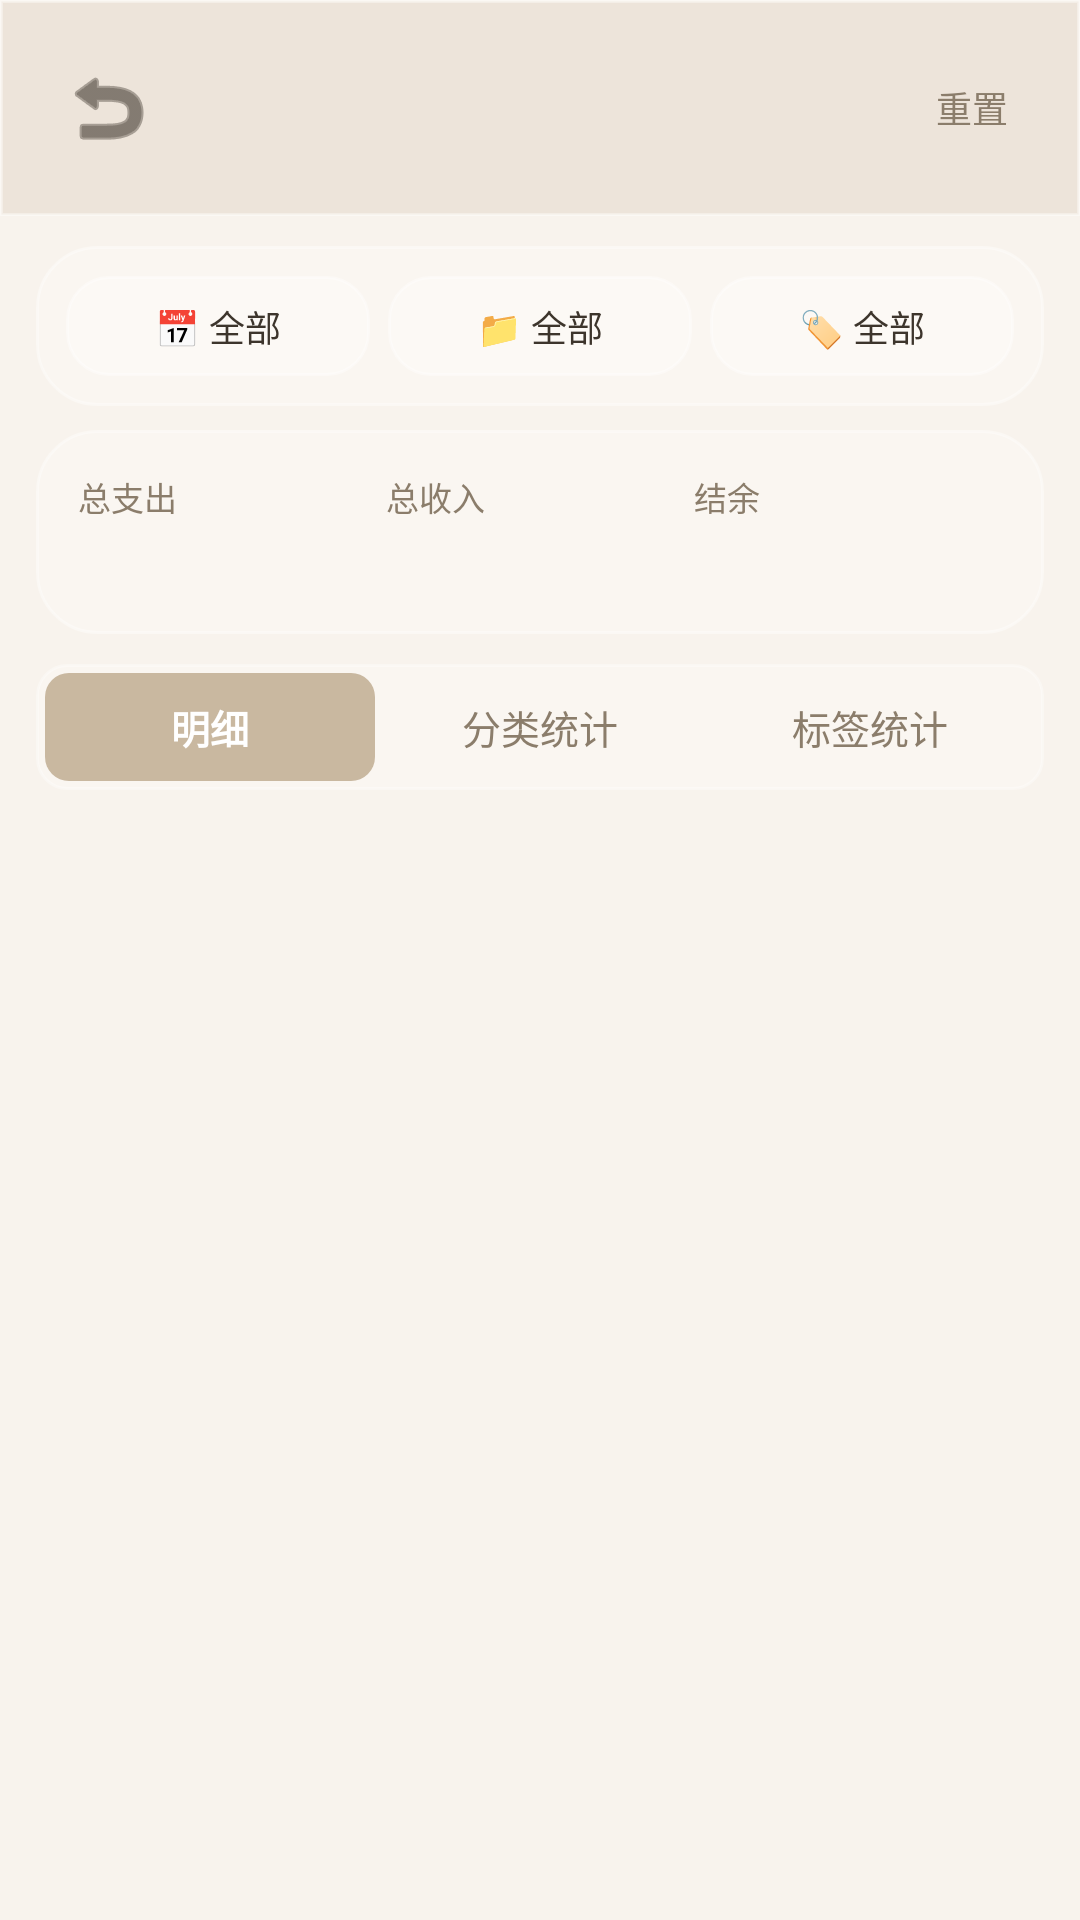

Icon click points for this 1080w x 1920h phone screenshot, format (x,y):
revert: (109,108)
